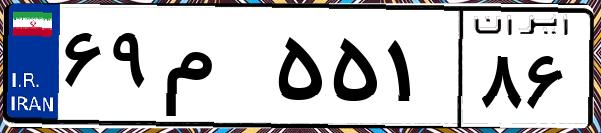1: (385, 28, 445, 110)
5: (270, 28, 330, 110), (330, 28, 385, 110)
6: (57, 26, 110, 100), (525, 38, 570, 115)
8: (475, 38, 525, 113)
9: (110, 28, 158, 98)
م: (158, 20, 270, 120)
